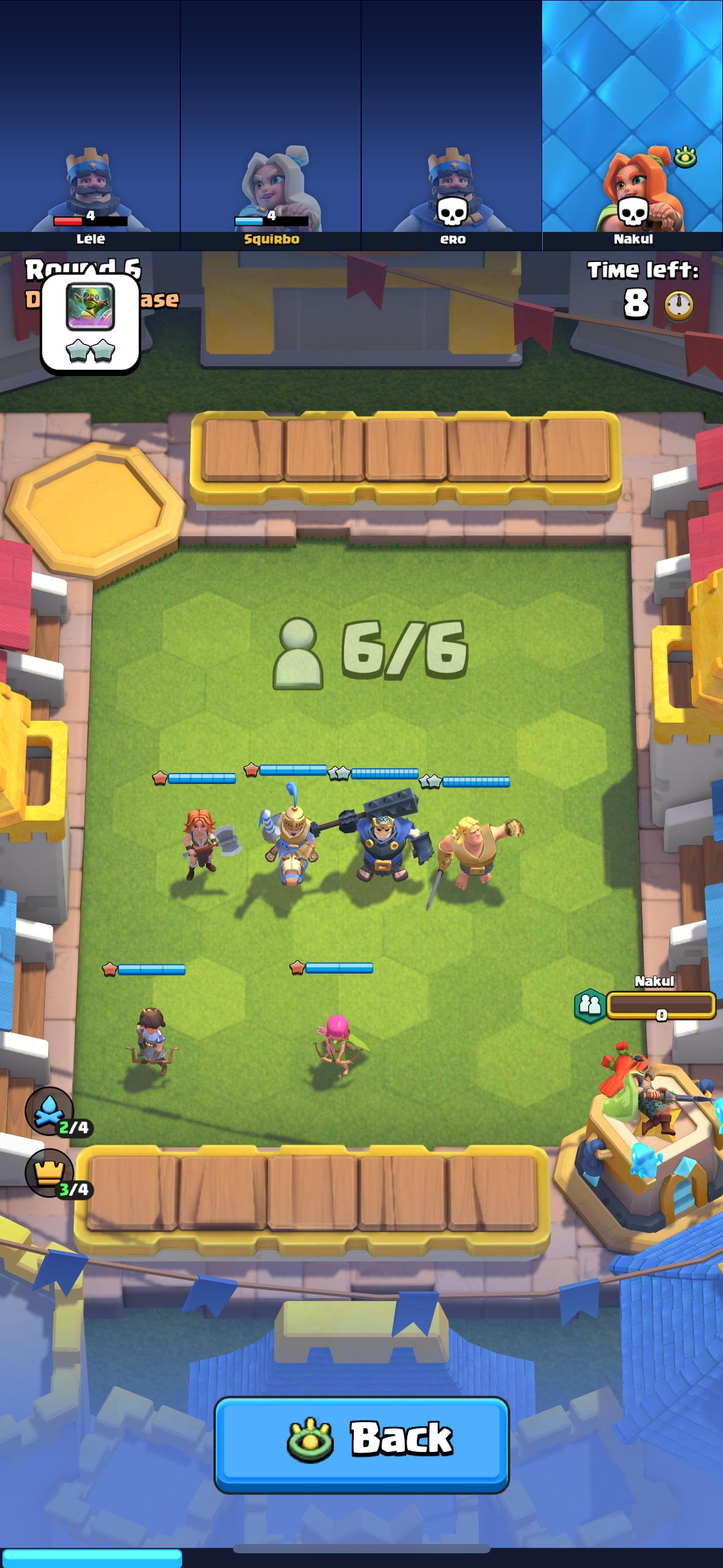archer: (313, 999, 366, 1079)
golden: (440, 803, 518, 896)
king: (335, 785, 431, 891)
prince: (251, 787, 322, 883)
princess: (124, 1001, 179, 1079)
valkyrie: (178, 803, 225, 882)
